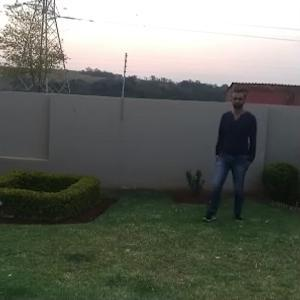follow: (213, 86, 258, 224)
